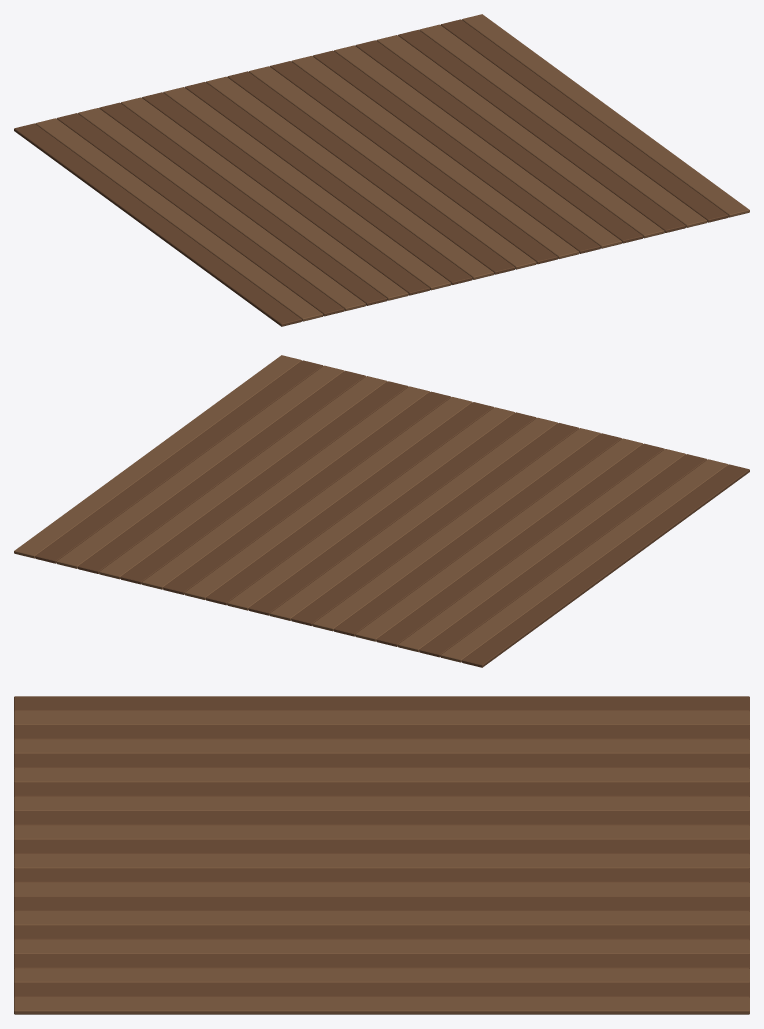
The model's file is FloorBoards.fbx.
The picture shows the model from 3 angles, top to bottom: view 1: azimuth 30°, elevation 25°; view 2: azimuth 150°, elevation 25°; view 3: azimuth 270°, elevation 25°; orthographic projection. The views are drawn at different scales.
Parts seen in each view (by area): view 1: FloorBoards_Planks; view 2: FloorBoards_Planks; view 3: FloorBoards_Planks.
Part boxes in pixels (x1,y1,x2,y2): FloorBoards_Planks: (14, 14, 749, 326); FloorBoards_Planks: (14, 355, 749, 667); FloorBoards_Planks: (14, 696, 749, 1014).
Bounding box in the file's own units: 4.04 × 0.025 × 4.
